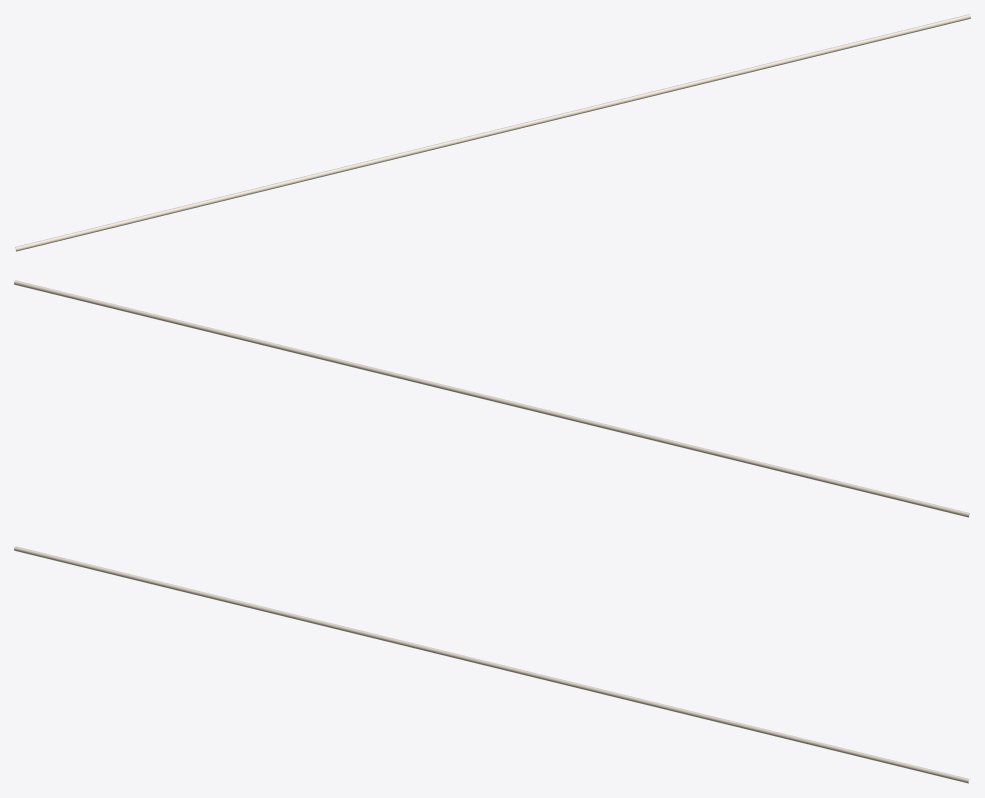
The model's file is area-a-lod2-piping.glb.
3 views of the same model, one above another, from view 1: azimuth 30°, elevation 25°; view 2: azimuth 150°, elevation 25°; view 3: azimuth 330°, elevation 25° (orthographic).
Bounding box in the file's own units: 36 × 0.156 × 0.156.
